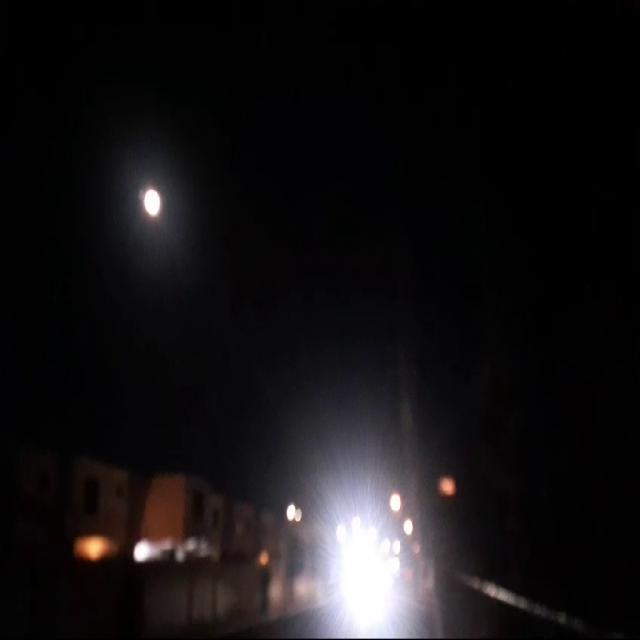moon: (145, 170, 166, 206)
